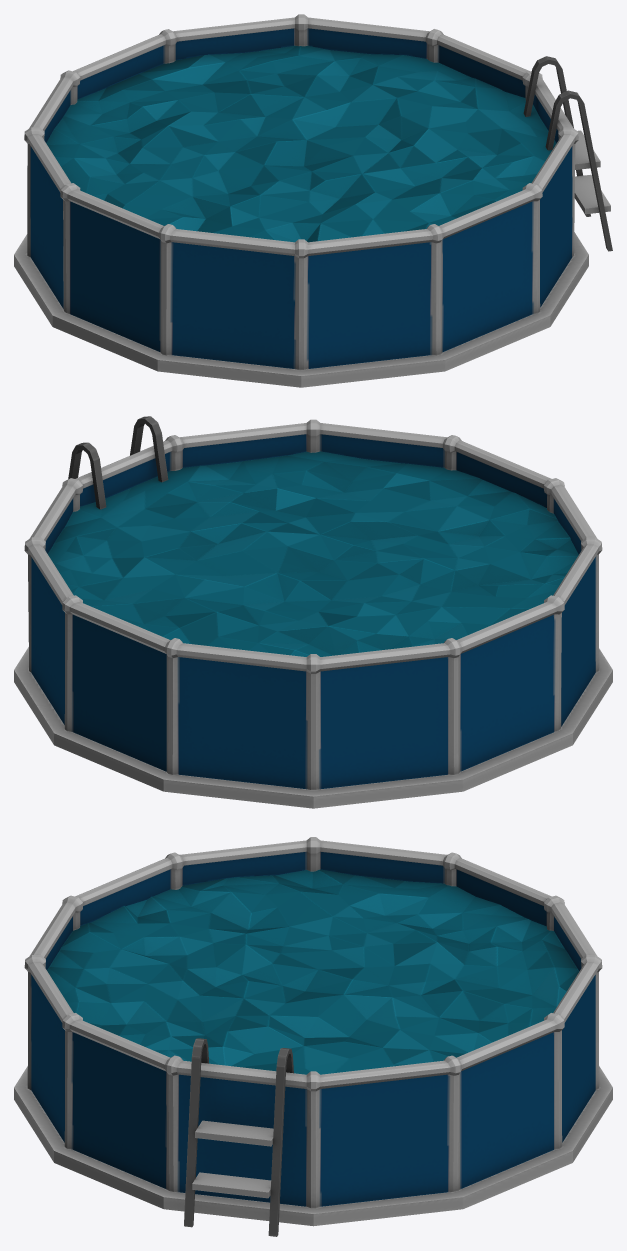
The picture shows the model from 3 angles, top to bottom: view 1: azimuth 30°, elevation 25°; view 2: azimuth 150°, elevation 25°; view 3: azimuth 270°, elevation 25°; orthographic projection. The views are drawn at different scales.
Visible parts, largest first — view 1: node-0; view 2: node-0; view 3: node-0.
Part boxes in pixels (x1,y1,x2,y2): node-0: [14, 14, 612, 387]; node-0: [14, 416, 612, 808]; node-0: [14, 837, 612, 1236].
Bounding box in the file's own units: 17.16 × 5.11 × 16.46.
Materials: 1 (1 with a texture image).
